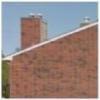chimneys: (20, 13, 48, 51), (78, 15, 94, 31)
